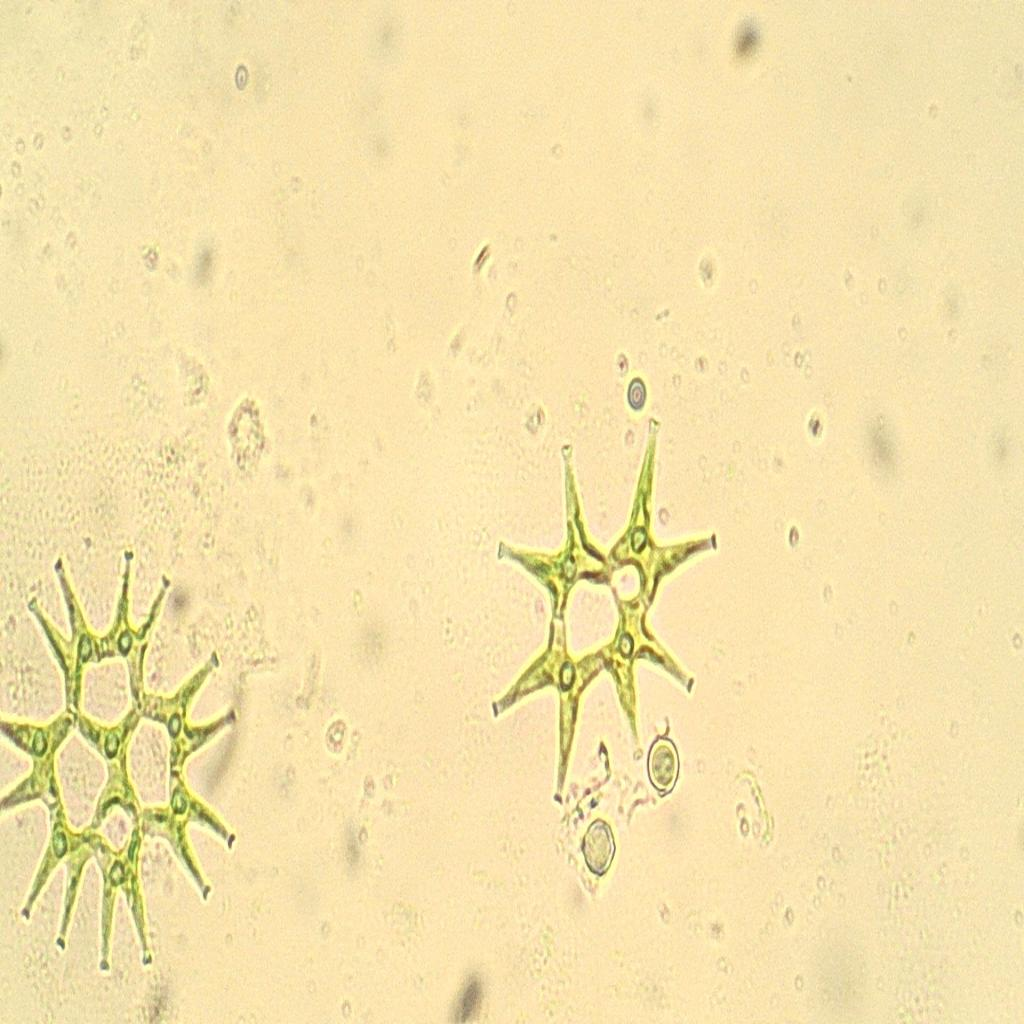Pediastrum_CF: (469, 408, 741, 817)
